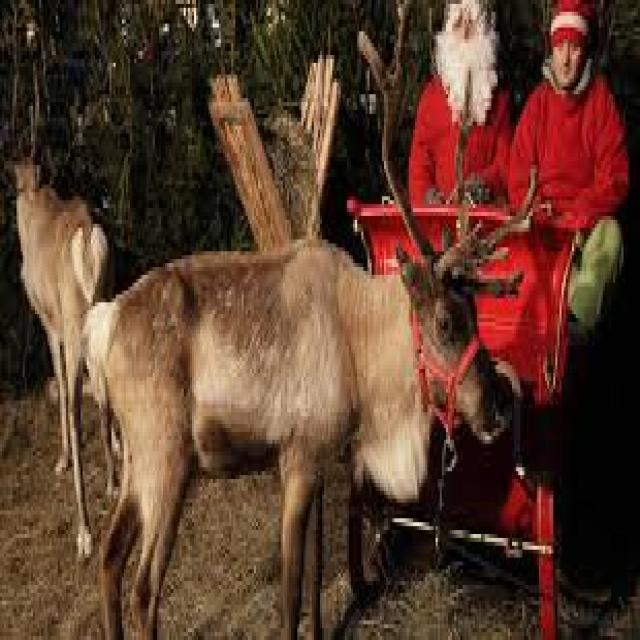Reindeer: (91, 103, 507, 640), (6, 119, 110, 566)
